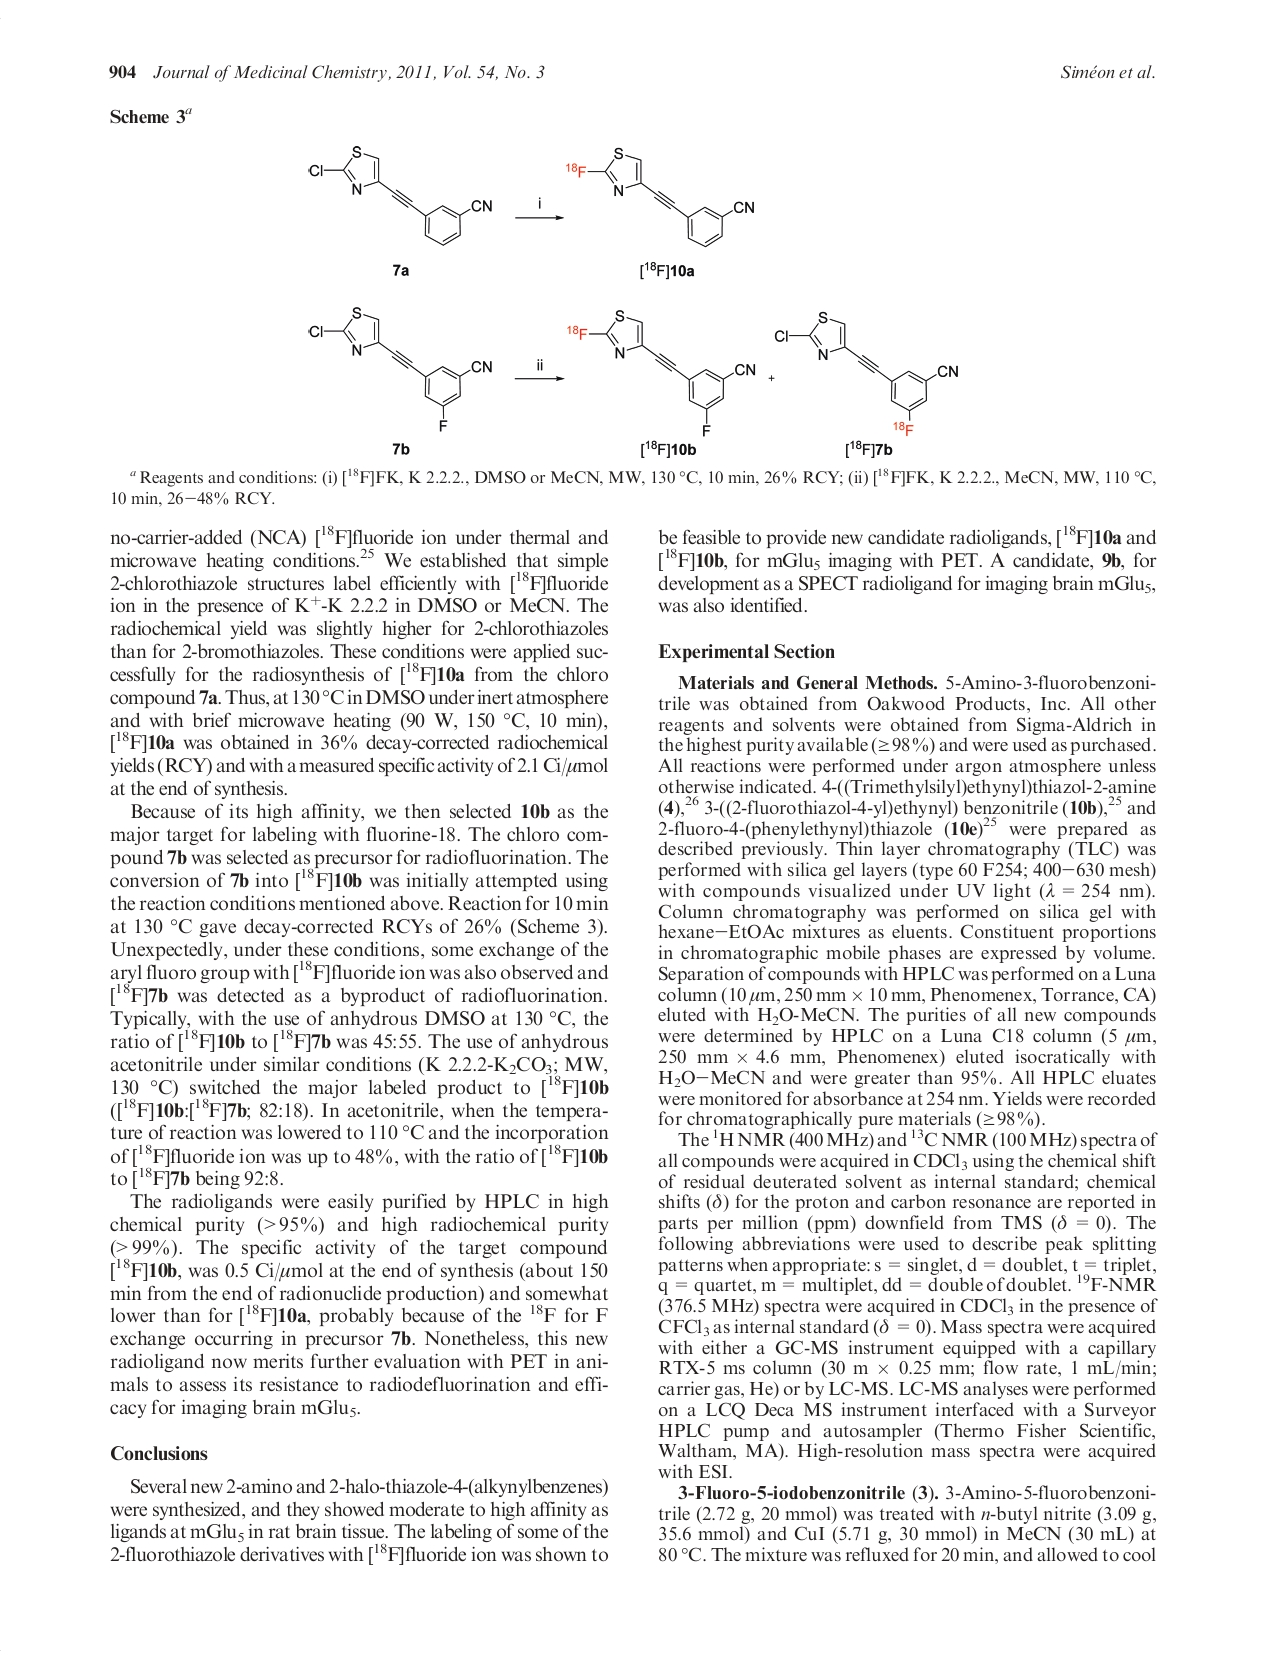exist_molecular: (563, 305, 758, 438), (305, 302, 496, 434), (771, 309, 963, 439), (561, 140, 761, 254), (306, 134, 493, 251)
